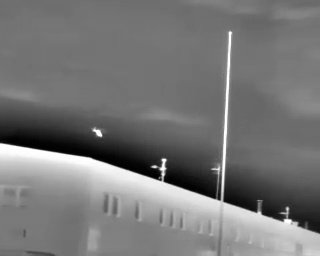HELICOPTER: (90, 124, 110, 142)
